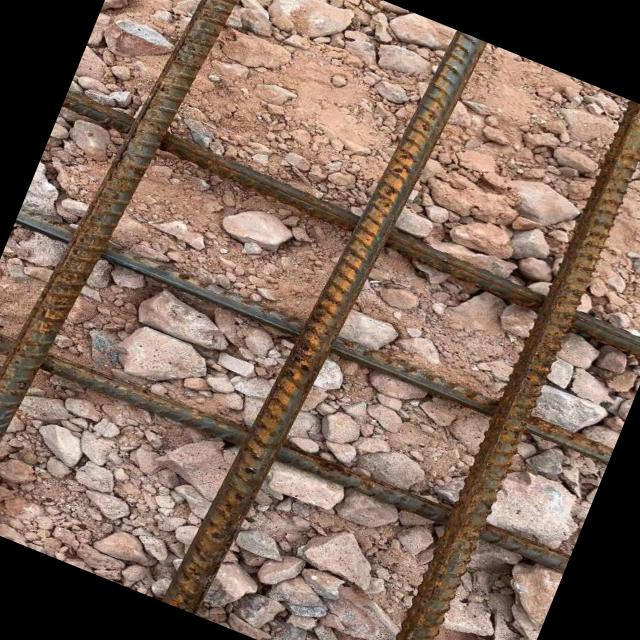ribbed bar: (158, 6, 486, 634), (55, 89, 640, 361), (13, 204, 614, 464), (0, 314, 570, 581), (374, 93, 640, 640), (0, 0, 264, 545)
